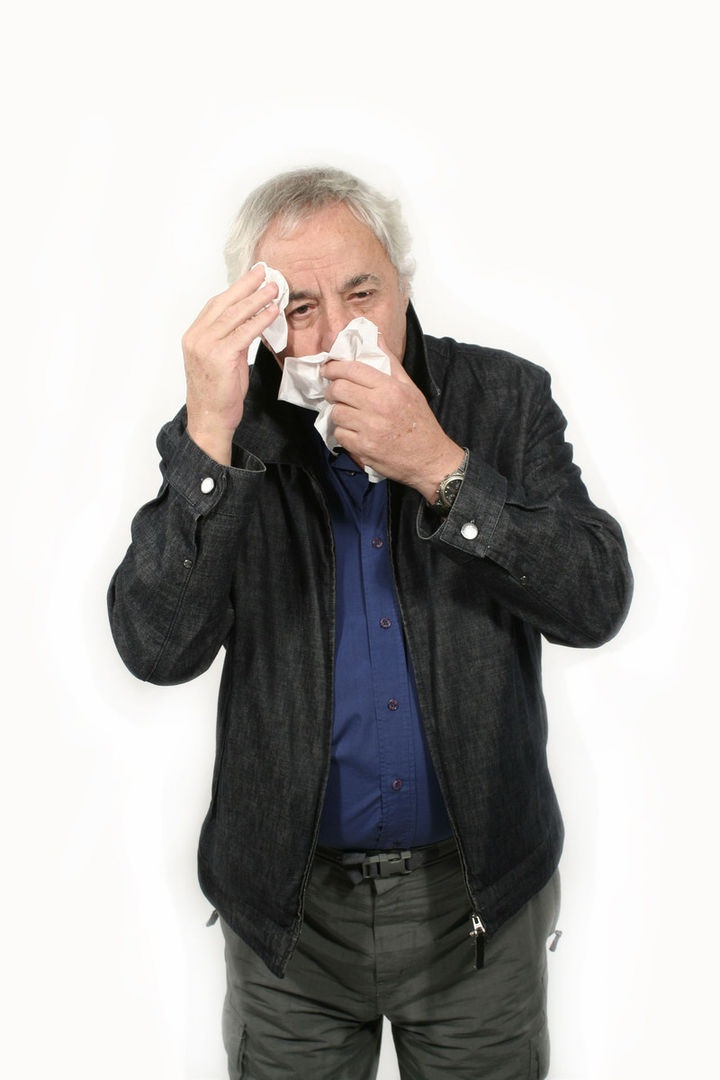face: (264, 206, 399, 399)
